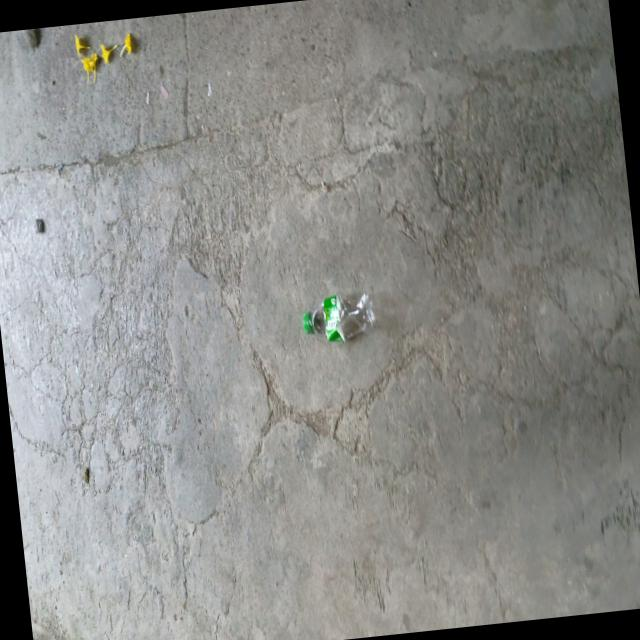Bottle: (301, 293, 374, 342)
